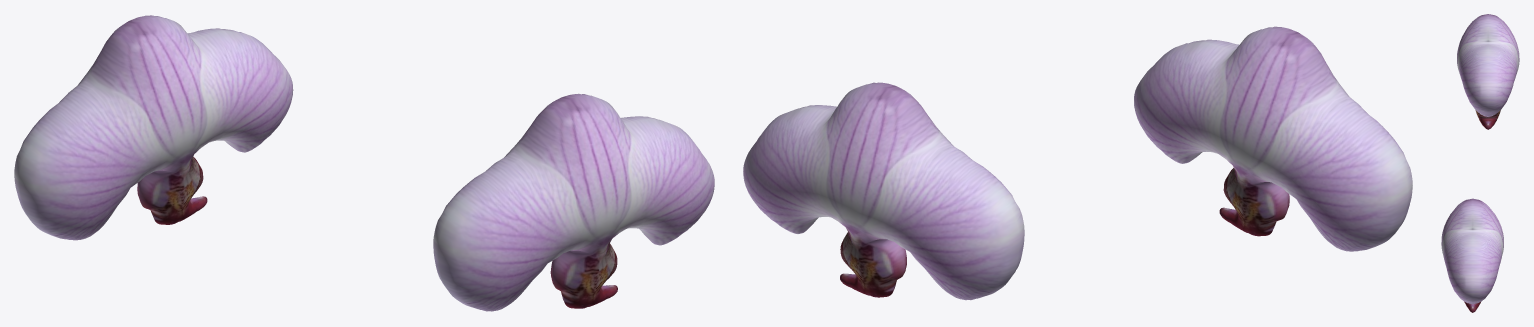
File: 蝴蝶蘭.glb
3 views of the same model, side by side, from view 1: azimuth 30°, elevation 25°; view 2: azimuth 150°, elevation 25°; view 3: azimuth 270°, elevation 25° (orthographic). The views are drawn at different scales.
Bounding box in the file's own units: 6.93 × 3.7 × 1.39.
Materials: 1 (1 with a texture image).
